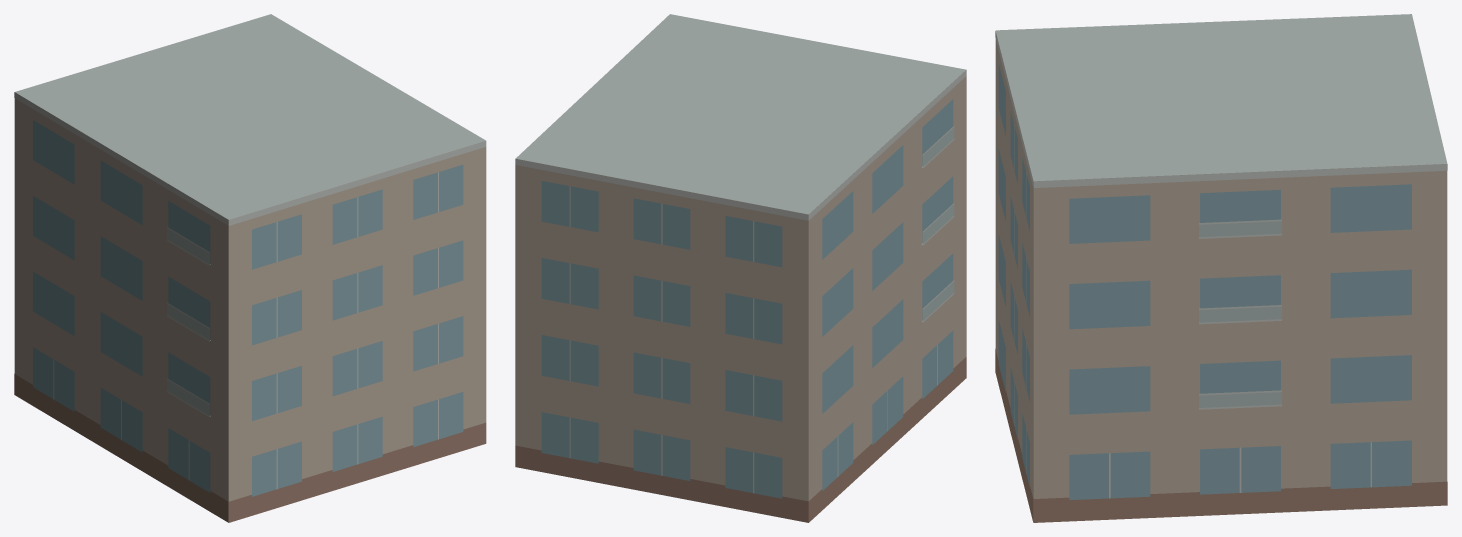
The model's file is survey-upis-32621852.glb.
3 renders of one model, left to right at view 1: azimuth 30°, elevation 25°; view 2: azimuth 150°, elevation 25°; view 3: azimuth 270°, elevation 25°, orthographic. The views are drawn at different scales.
Visible parts, largest first — view 1: survey-upis-32621852.tmp; view 2: survey-upis-32621852.tmp; view 3: survey-upis-32621852.tmp.
Boxes of the visible parts, left/top/right/bottom form: survey-upis-32621852.tmp: left=14, top=14, right=486, bottom=522; survey-upis-32621852.tmp: left=515, top=14, right=966, bottom=522; survey-upis-32621852.tmp: left=995, top=14, right=1447, bottom=522.
Size of the model in its own units: 12.82 by 12.2 by 14.64.
